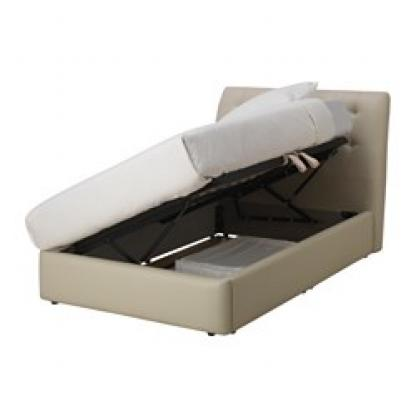Bed: (17, 33, 394, 351)
